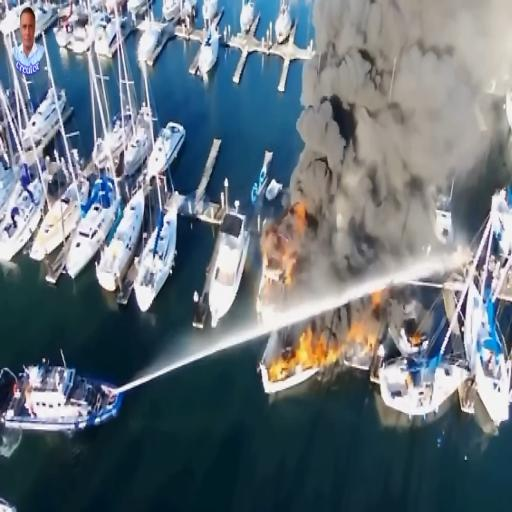fire: (290, 324, 336, 375)
smoke: (327, 0, 452, 149)
